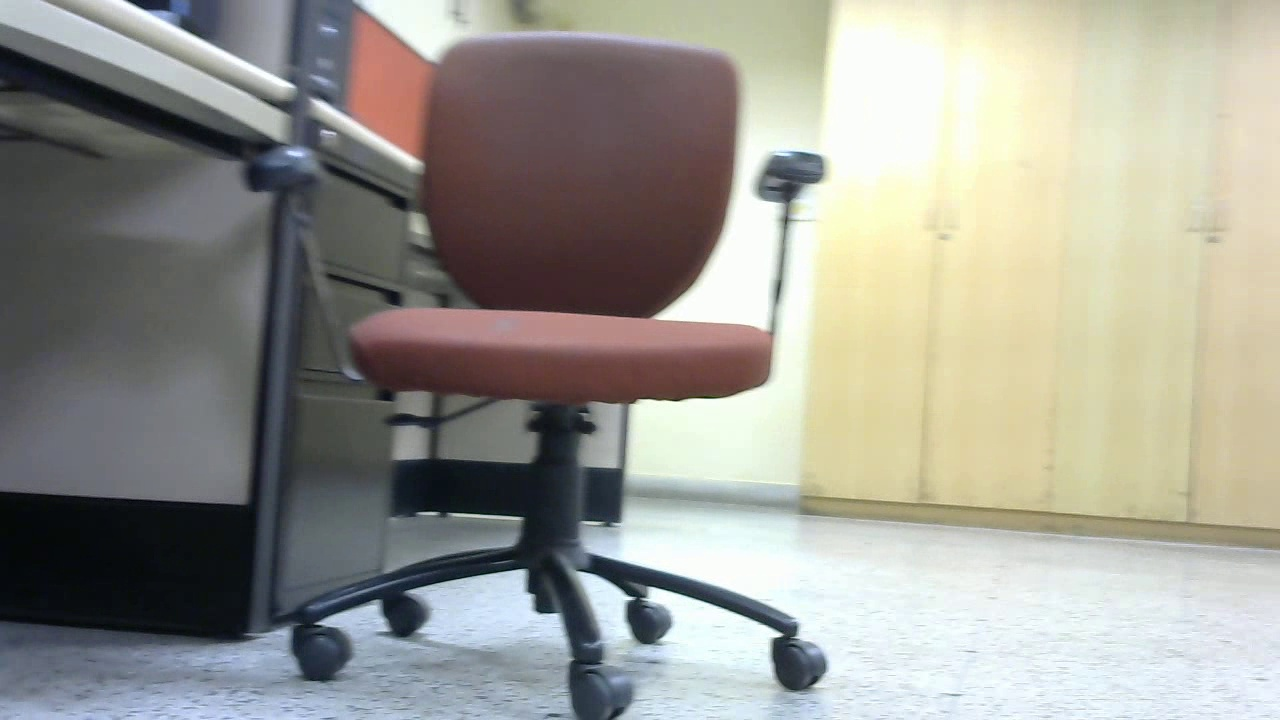chair: (233, 26, 834, 720)
